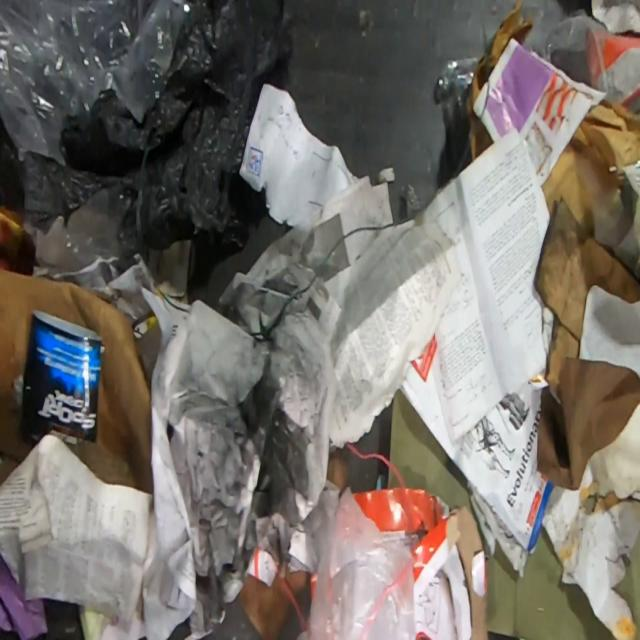cardboard: (388, 386, 616, 637), (0, 267, 152, 500), (532, 198, 640, 489), (352, 488, 488, 639), (539, 93, 640, 240), (465, 0, 535, 160)
rigid_plastic: (546, 13, 640, 116), (435, 27, 489, 176)
soft_plastic: (3, 0, 295, 249), (0, 0, 190, 160), (305, 481, 414, 639), (23, 187, 122, 281)
